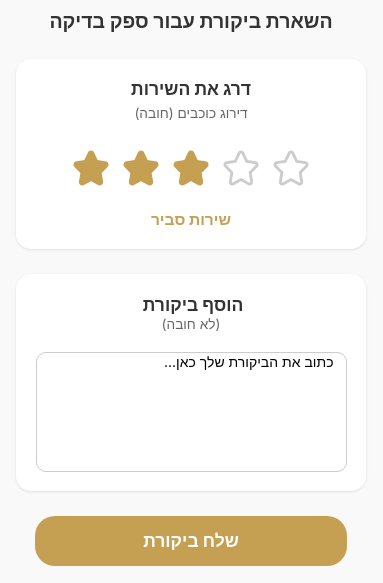
Test case: ReviewsScreen - בדיקות בסיסיות ו-flow › מאפשר לבחור דירוג כוכבים
This screenshot has width=383, height=583.
What coordinates should you click on to do the following:
click the 5th button
I would click on:
 (291, 168)
Its box is left=266, top=146, right=316, bottom=190.
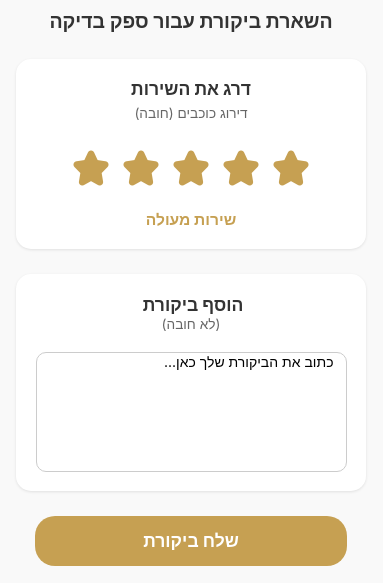
Result: the text "שירות מעולה" is shown at left=146, top=210, right=236, bottom=229
